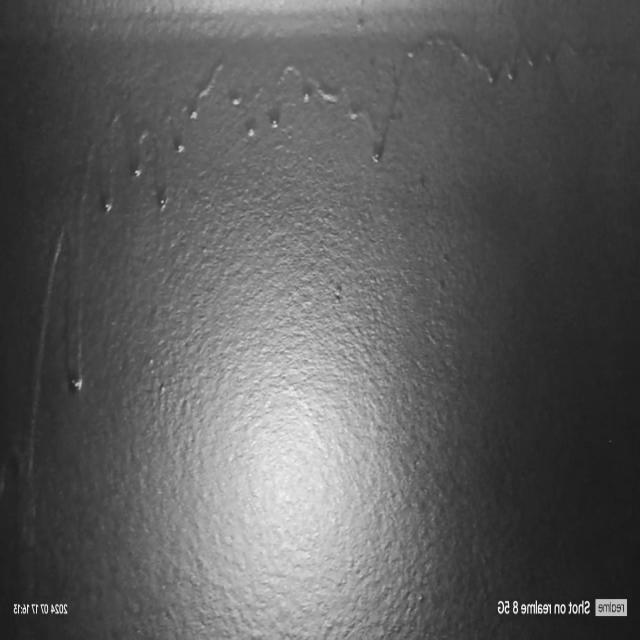paint drips: (92, 10, 615, 236), (10, 122, 90, 580)
